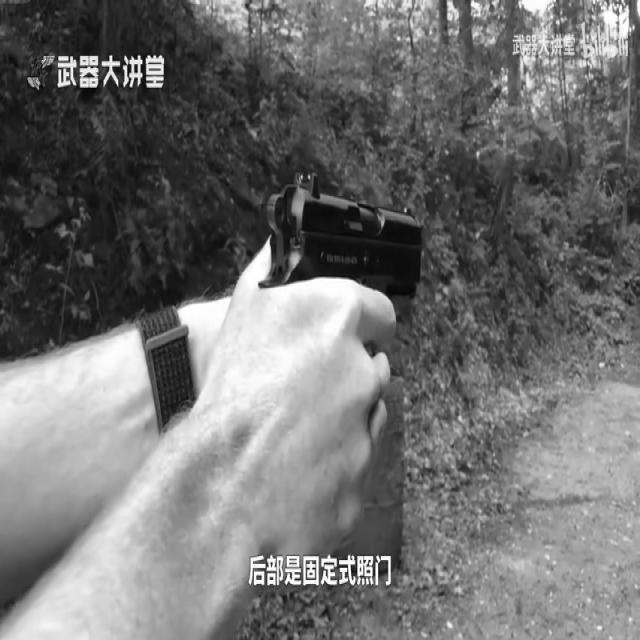Hand-Gun: (231, 102, 457, 460)
